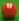red: (0, 0, 19, 21)
